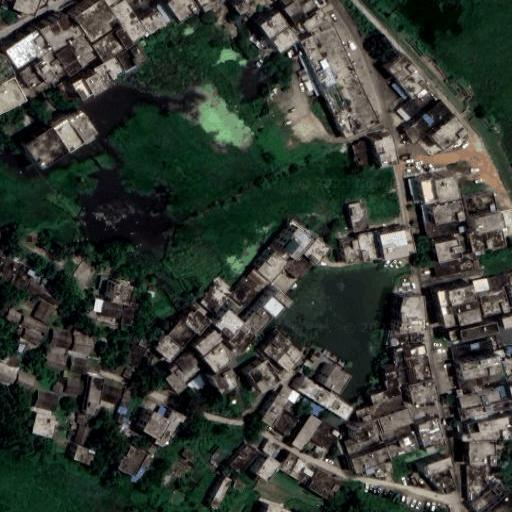building: (301, 26, 379, 138), (400, 99, 455, 149), (292, 374, 353, 418), (28, 120, 81, 170), (19, 48, 68, 95), (71, 61, 118, 106), (5, 30, 51, 70), (55, 33, 98, 75), (40, 12, 84, 53), (102, 0, 145, 41), (397, 85, 441, 125), (231, 267, 271, 308), (358, 394, 407, 427), (90, 28, 127, 64), (62, 252, 98, 289), (65, 108, 100, 146), (0, 104, 36, 140), (430, 116, 467, 151), (453, 284, 483, 325), (459, 355, 508, 379), (0, 77, 29, 117), (156, 410, 185, 450), (280, 452, 316, 484), (314, 361, 350, 392), (345, 434, 388, 459), (386, 52, 419, 84), (201, 280, 233, 313), (248, 361, 281, 393), (351, 448, 392, 473), (283, 227, 314, 259), (291, 414, 319, 449), (215, 308, 246, 339), (438, 289, 462, 329), (310, 469, 342, 499), (472, 484, 506, 512), (124, 0, 167, 22), (382, 229, 417, 256), (206, 476, 233, 511), (91, 354, 126, 380), (230, 443, 259, 474), (406, 345, 430, 382), (259, 12, 289, 41), (400, 70, 430, 99), (244, 306, 273, 336), (259, 252, 288, 282), (373, 137, 400, 169), (202, 343, 231, 372), (276, 344, 305, 373), (171, 354, 200, 383), (139, 9, 169, 37), (118, 445, 145, 476), (461, 322, 500, 343), (378, 409, 412, 433), (230, 325, 258, 354), (264, 333, 292, 362), (466, 465, 489, 500), (470, 229, 505, 252), (166, 320, 194, 348), (387, 434, 419, 458), (25, 278, 57, 302), (467, 371, 505, 391), (434, 202, 467, 225), (302, 239, 329, 267), (184, 309, 212, 336), (481, 290, 510, 316), (31, 407, 56, 437), (392, 348, 412, 385), (263, 393, 286, 425), (271, 28, 299, 54), (195, 330, 223, 356), (143, 411, 169, 439), (475, 213, 507, 235), (467, 192, 499, 214), (211, 369, 238, 395), (202, 440, 228, 467), (419, 420, 444, 448), (436, 176, 462, 202), (311, 424, 337, 450), (470, 441, 497, 466), (433, 239, 461, 263), (408, 379, 434, 404), (354, 421, 383, 443), (50, 330, 76, 354), (426, 455, 455, 476), (360, 232, 380, 262), (0, 52, 18, 85), (113, 49, 137, 73), (275, 412, 299, 436), (87, 379, 103, 415), (257, 456, 280, 481), (399, 298, 425, 320), (110, 282, 136, 304), (156, 336, 179, 360), (373, 385, 402, 404), (20, 315, 49, 334), (300, 394, 326, 415), (355, 145, 377, 169), (34, 301, 56, 325), (11, 263, 33, 287), (12, 0, 43, 17), (381, 426, 411, 443), (73, 334, 95, 357), (263, 297, 285, 319), (303, 12, 326, 33), (36, 391, 60, 411), (101, 384, 120, 409), (435, 470, 455, 493), (325, 409, 348, 429), (71, 445, 94, 465), (423, 177, 440, 204), (250, 500, 288, 512), (129, 46, 149, 68), (272, 290, 294, 310), (117, 388, 133, 414), (23, 326, 46, 344), (121, 303, 138, 327), (261, 439, 281, 459), (166, 372, 186, 392), (186, 373, 206, 393), (462, 431, 495, 443), (102, 299, 125, 316), (391, 80, 410, 100), (350, 204, 364, 231), (48, 351, 69, 369), (479, 386, 501, 403), (135, 409, 152, 431), (105, 59, 123, 79), (485, 401, 512, 414), (345, 243, 362, 263), (399, 319, 425, 332), (415, 180, 428, 206), (462, 406, 487, 419), (117, 30, 134, 49), (17, 373, 36, 390), (382, 368, 398, 388), (71, 354, 87, 374), (472, 275, 490, 292), (74, 425, 90, 444), (3, 309, 23, 324), (461, 393, 482, 407), (67, 377, 84, 394), (131, 464, 145, 484), (280, 386, 297, 401), (180, 448, 197, 462), (498, 383, 512, 399), (129, 343, 143, 359), (95, 312, 117, 322), (288, 266, 302, 279), (56, 379, 69, 392), (91, 300, 104, 313), (471, 413, 492, 421), (428, 206, 436, 226), (503, 211, 512, 228), (126, 365, 137, 378), (136, 337, 150, 347), (504, 316, 512, 330), (157, 406, 167, 417), (365, 467, 377, 475), (78, 414, 87, 424), (16, 327, 25, 337), (130, 357, 139, 367), (121, 418, 130, 427), (468, 424, 478, 432), (503, 431, 512, 439), (455, 389, 463, 398), (41, 276, 49, 285), (495, 350, 505, 357), (17, 343, 24, 352), (506, 345, 512, 354), (459, 226, 466, 233), (425, 446, 433, 452)
